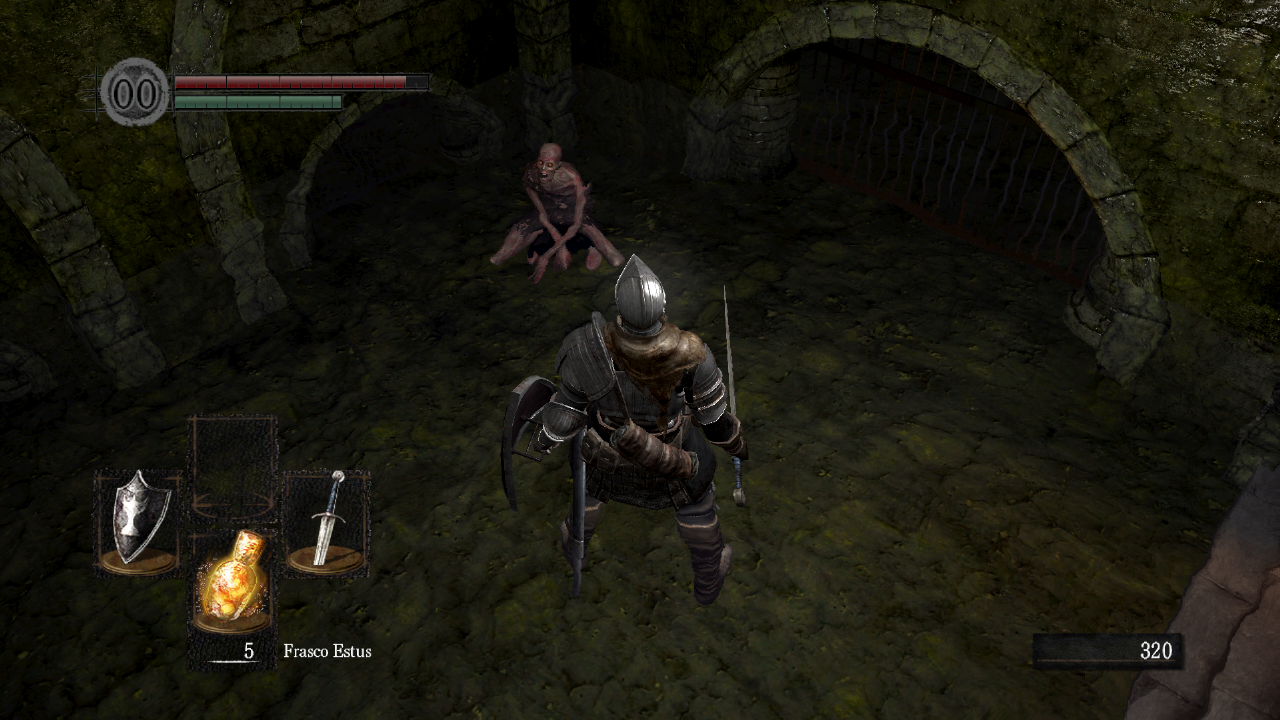hollow: (489, 142, 627, 284)
player: (500, 254, 749, 605)
